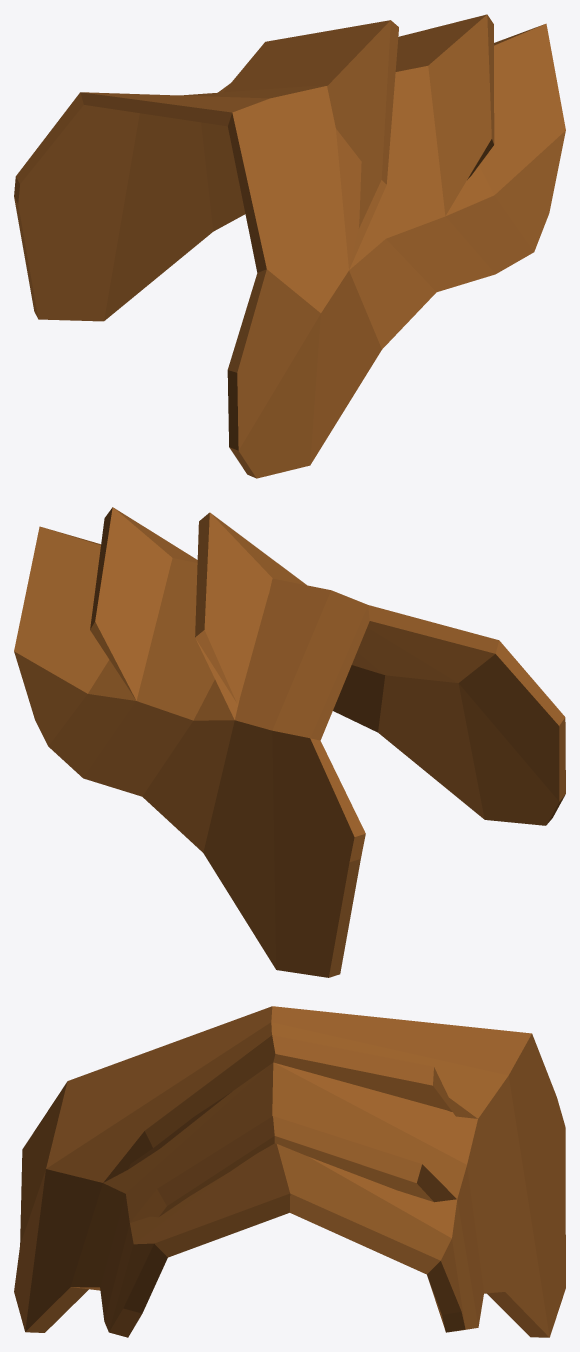
File: FBX_Pauldron_Bronze.fbx
The picture shows the model from 3 angles, top to bottom: view 1: azimuth 30°, elevation 25°; view 2: azimuth 150°, elevation 25°; view 3: azimuth 270°, elevation 25°; orthographic projection. The views are drawn at different scales.
Visible parts, largest first — view 1: Pauldron.002; view 2: Pauldron.002; view 3: Pauldron.002.
Part boxes in pixels (x1,y1,x2,y2): Pauldron.002: [14, 14, 565, 478]; Pauldron.002: [14, 507, 565, 977]; Pauldron.002: [14, 1006, 565, 1337].
Size of the model in its own units: 0.3044 by 0.2263 by 0.2746.
